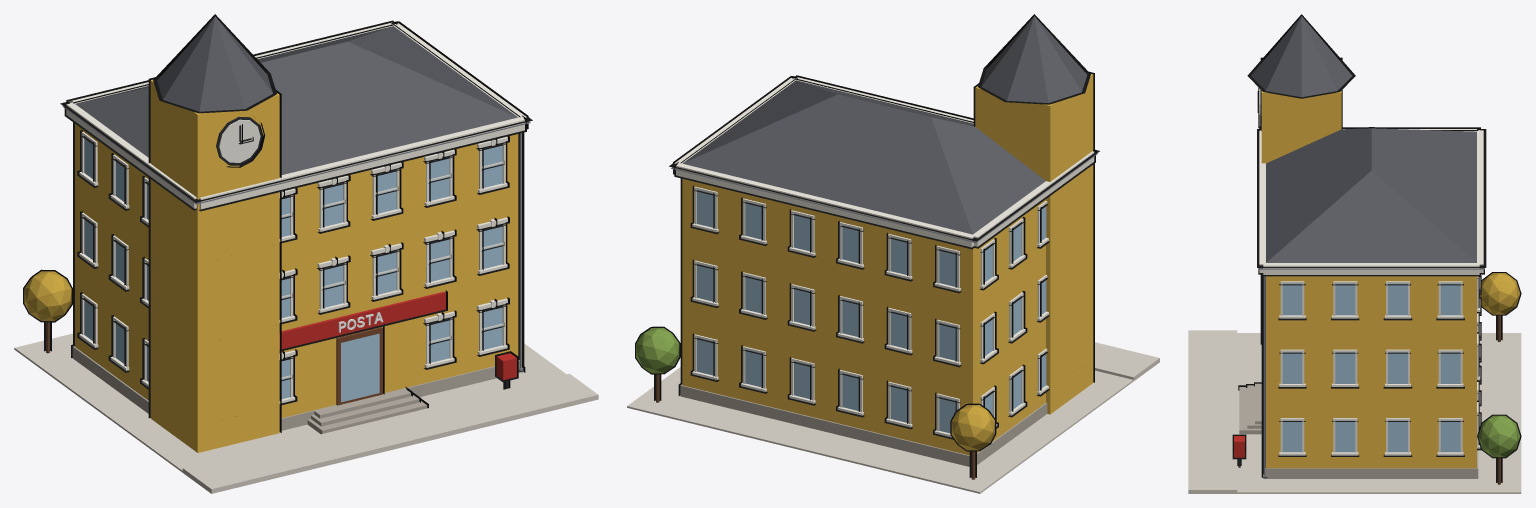
The model's file is Kamu_postane_1.fbx.
3 views of the same model, side by side, from view 1: azimuth 30°, elevation 25°; view 2: azimuth 150°, elevation 25°; view 3: azimuth 270°, elevation 25° (orthographic). The views are drawn at different scales.
Parts seen in each view (by area): view 1: Kamu_postane_1; view 2: Kamu_postane_1; view 3: Kamu_postane_1.
Boxes of the visible parts, left/top/right/bottom form: Kamu_postane_1: left=14, top=14, right=598, bottom=493; Kamu_postane_1: left=627, top=14, right=1159, bottom=493; Kamu_postane_1: left=1188, top=14, right=1521, bottom=493.
Size of the model in its own units: 17.21 by 17.37 by 15.
